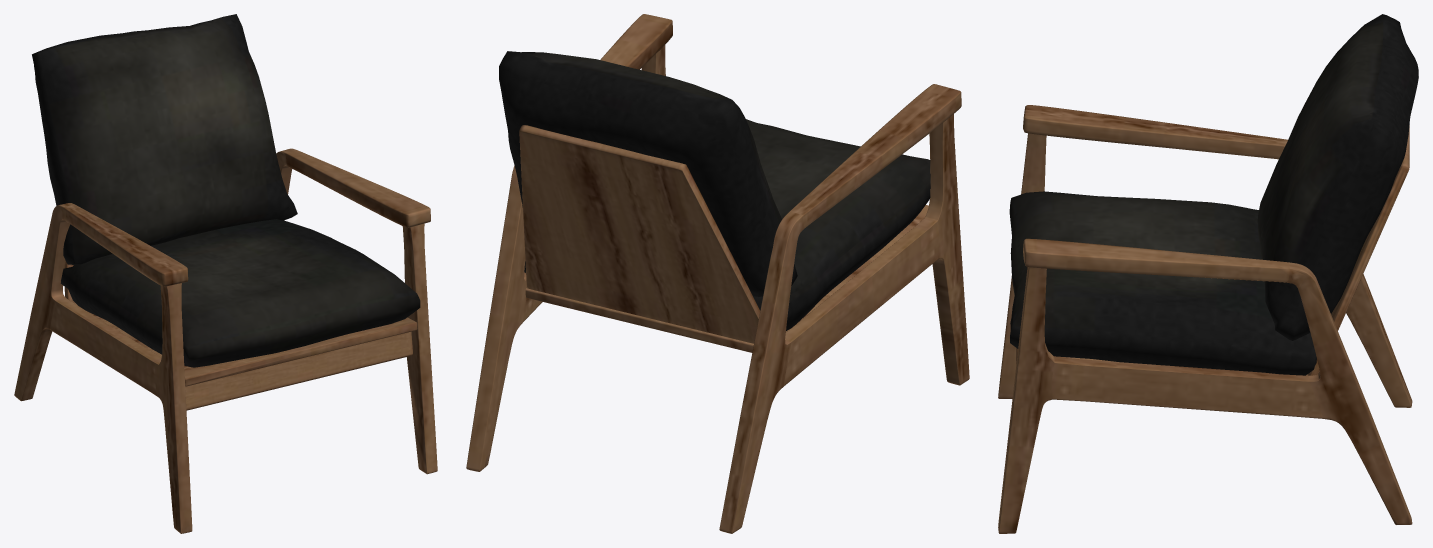
Rendered from modern_arm_chair_01.glb.
3 views of the same model, side by side, from view 1: azimuth 30°, elevation 25°; view 2: azimuth 150°, elevation 25°; view 3: azimuth 270°, elevation 25° (orthographic). The views are drawn at different scales.
Visible parts, largest first — view 1: modern_arm_chair_01; view 2: modern_arm_chair_01; view 3: modern_arm_chair_01.
Part boxes in pixels (<box>): modern_arm_chair_01: <box>14,14,437,533</box>; modern_arm_chair_01: <box>466,14,969,533</box>; modern_arm_chair_01: <box>998,14,1418,533</box>.
Size of the model in its own units: 0.8203 by 1.02 by 0.9866.
Materials: 2 (2 with a texture image).
